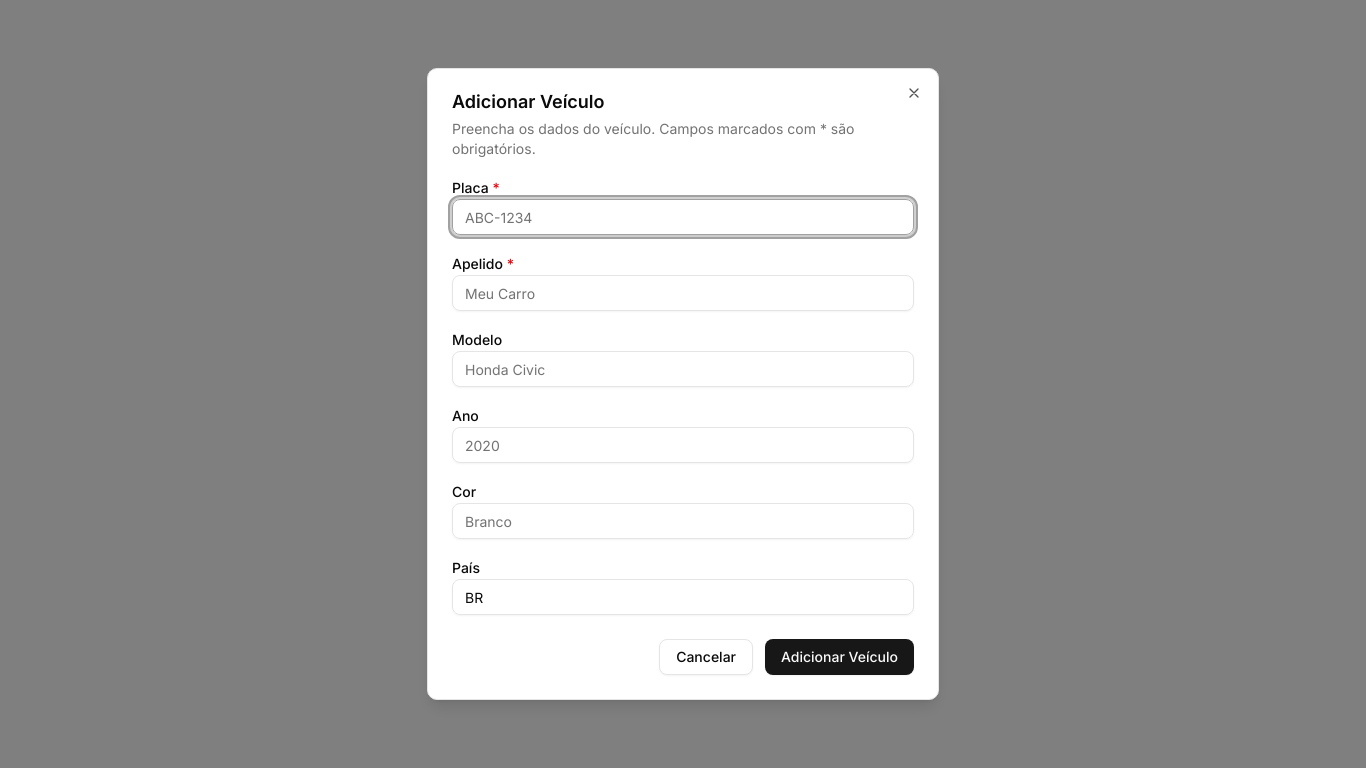
Test: vehicleForm › validation › should show validation error when name is empty
Type "ABC1234" into the field labelled "Placa *" at point(683, 217), box [452,199,914,235]
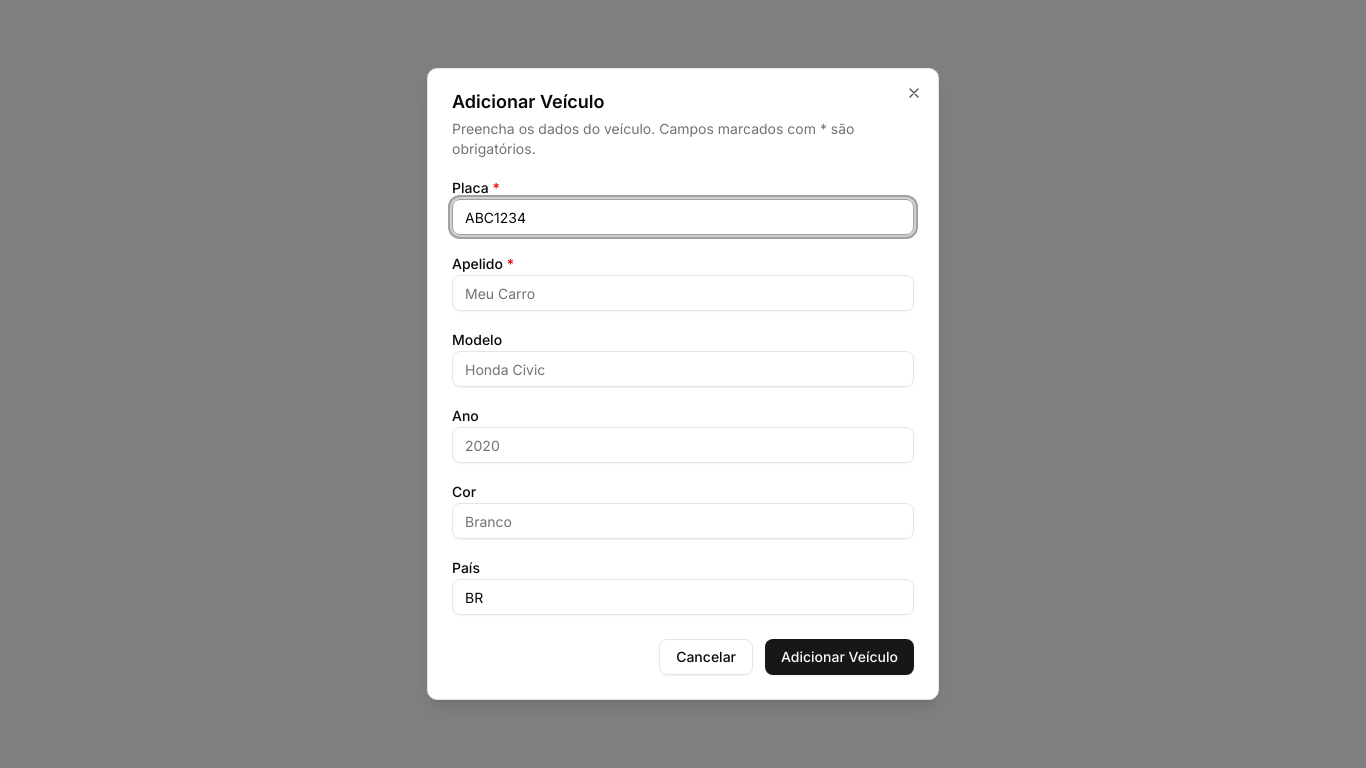
Click the button "Adicionar Veículo" at point(840, 657), box [765,639,914,675]
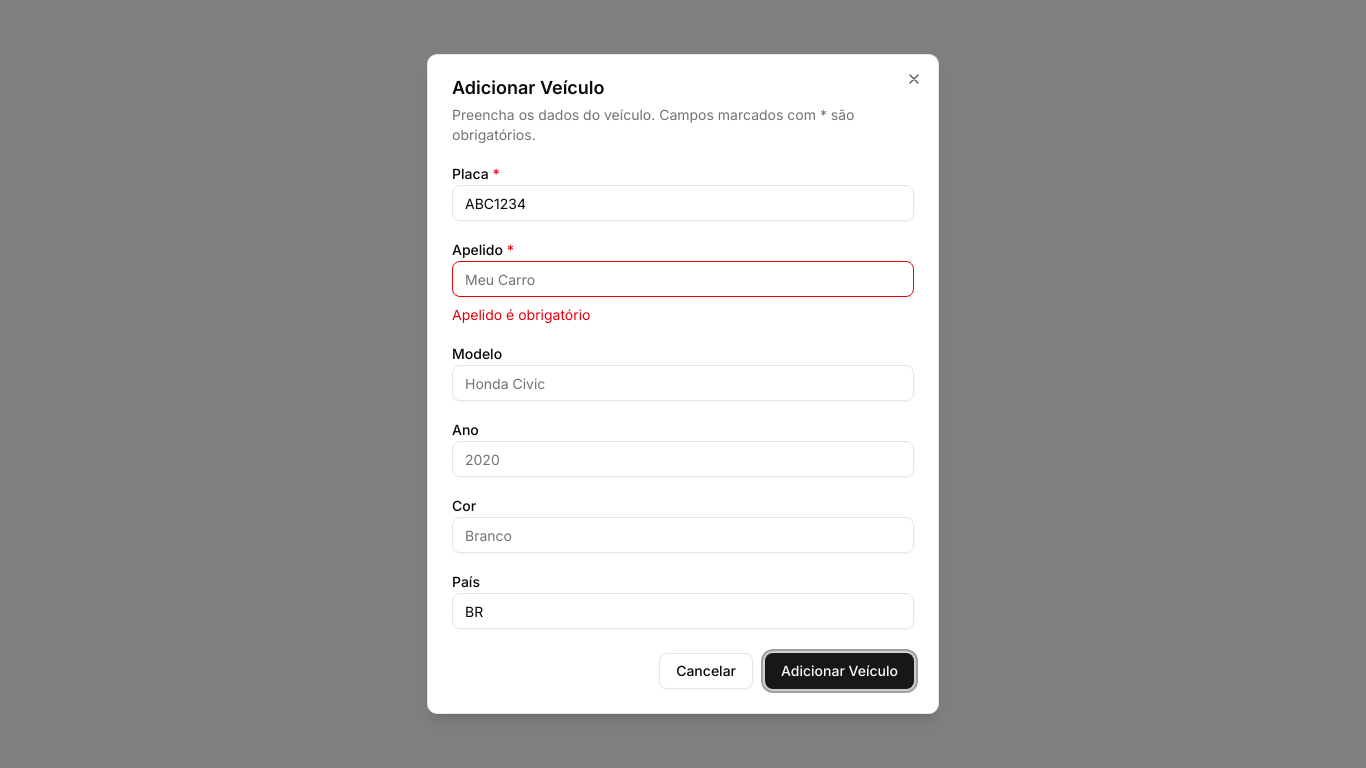
Check: the text "Apelido é obrigatório" is shown, box [452,306,590,323]
